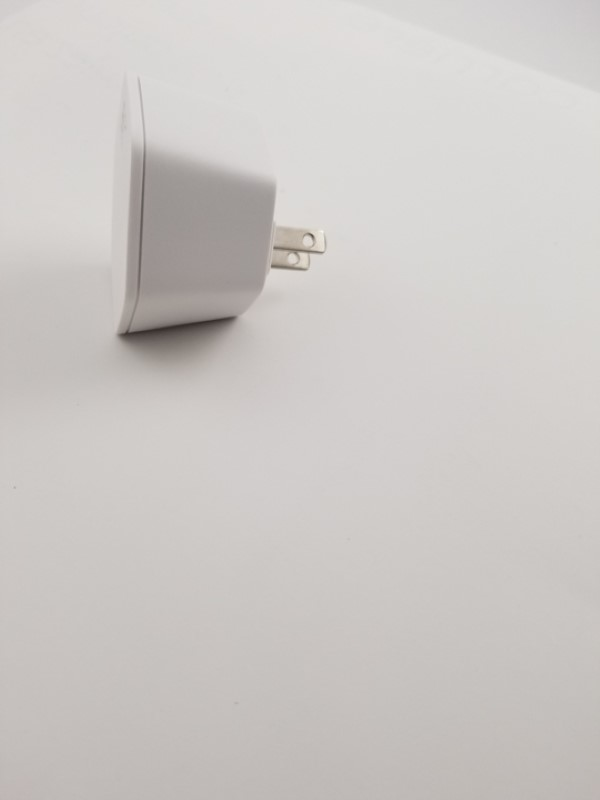pod: (105, 70, 334, 342)
